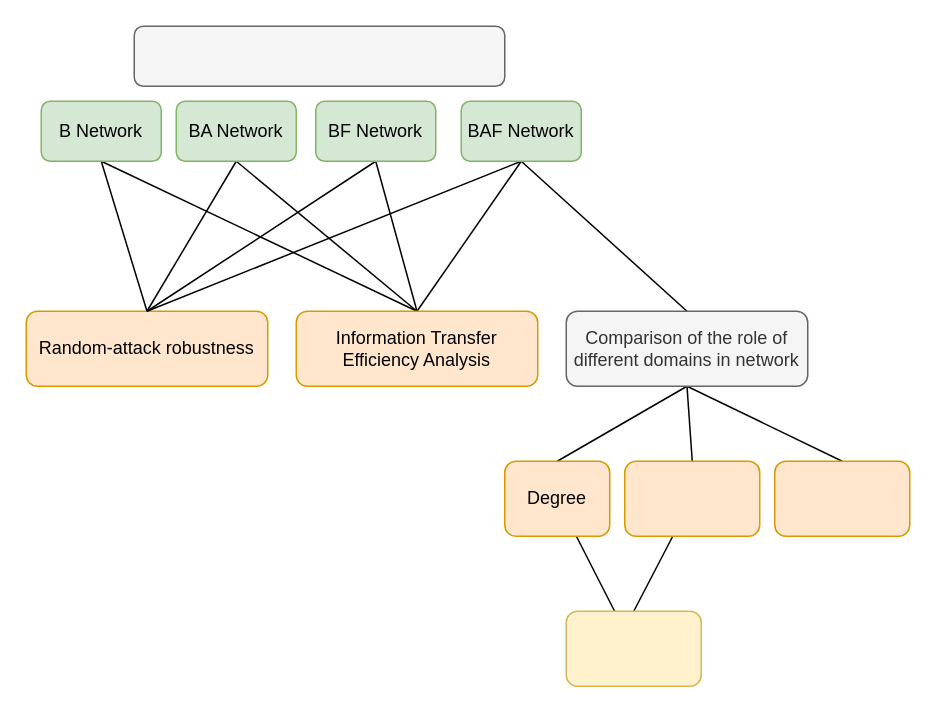
This 936x713 diagram has some shape labels left out. The shapes that lost their labels are listed below. From the top down, each one's centre as x and y in pixels, then its label:
[319,55]: SPIEC-EASI SLR Derived Networks
[691,498]: Betweenness
[841,498]: Edge Weight
[633,648]: Keystone Species Analysis
